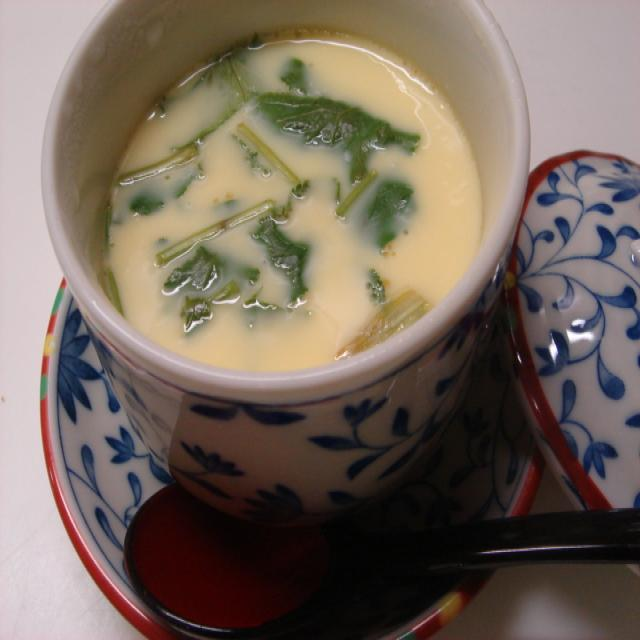鸡蛋料理: (76, 0, 496, 509)
